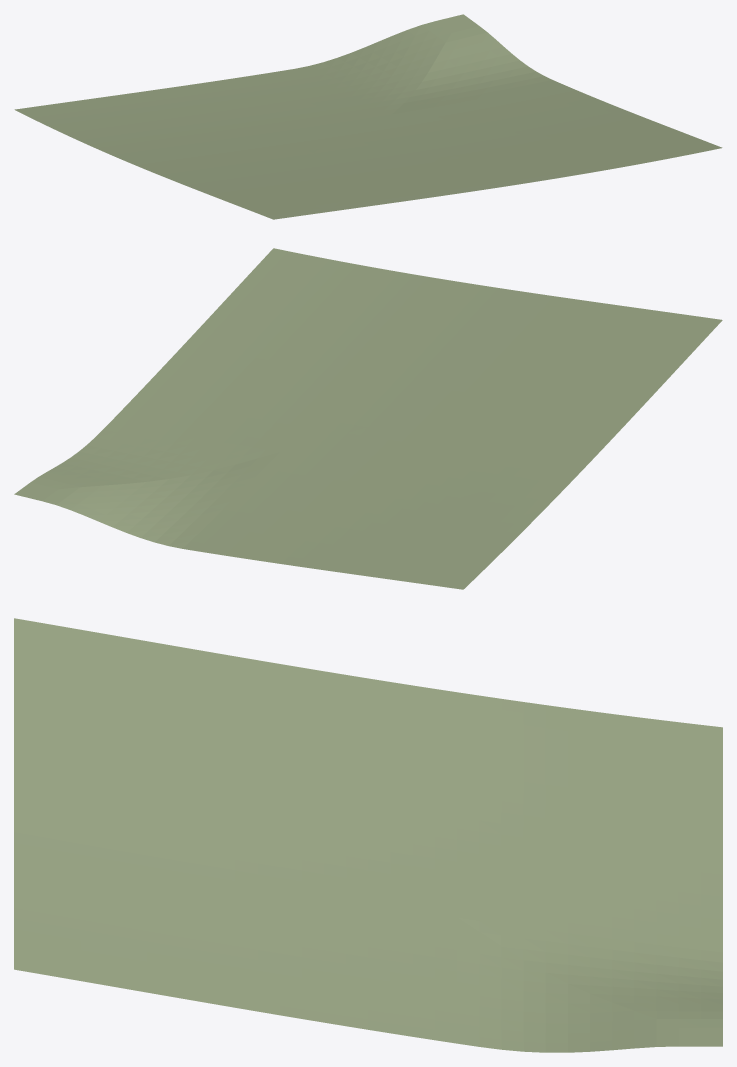
The model's file is valley-12-13.glb.
3 views of the same model, one above another, from view 1: azimuth 30°, elevation 25°; view 2: azimuth 150°, elevation 25°; view 3: azimuth 270°, elevation 25° (orthographic). The views are drawn at different scales.
Parts seen in each view (by area): view 1: valley-12-13; view 2: valley-12-13; view 3: valley-12-13.
Boxes of the visible parts, bbox=[...] form: valley-12-13: bbox=[14, 14, 722, 219]; valley-12-13: bbox=[14, 248, 722, 589]; valley-12-13: bbox=[14, 618, 722, 1052].
Size of the model in its own units: 256 by 58.88 by 256.
